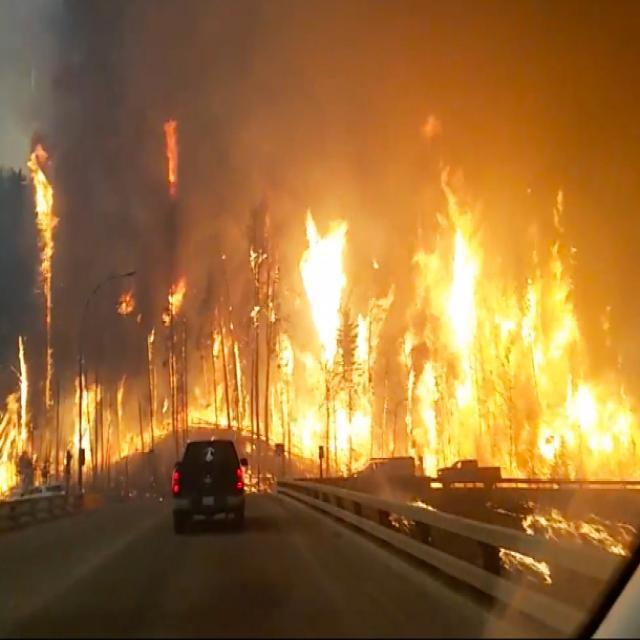Fire: (233, 169, 640, 385), (3, 373, 640, 495), (400, 162, 518, 528), (529, 210, 640, 528), (258, 171, 368, 477), (18, 136, 96, 484), (153, 119, 224, 442), (492, 486, 640, 614), (109, 284, 143, 319)
Smoke: (152, 8, 294, 102), (49, 0, 147, 121), (100, 134, 150, 276)
